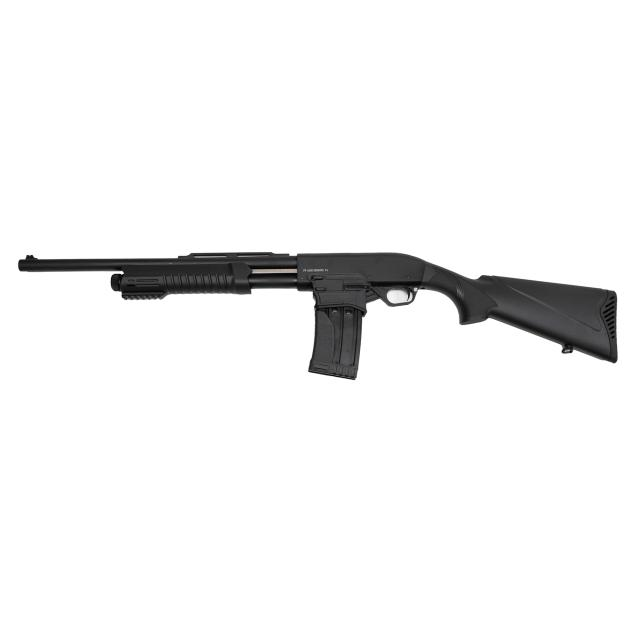ShotGun: (17, 252, 619, 363)
